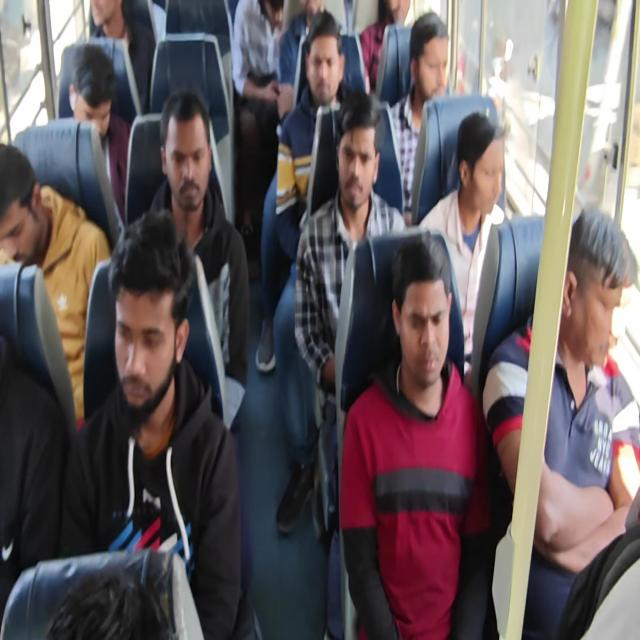person: (1, 1, 638, 638), (59, 208, 257, 638), (482, 202, 639, 638), (339, 236, 491, 638), (293, 90, 407, 534), (147, 89, 250, 432), (255, 10, 352, 372), (0, 142, 111, 428), (418, 110, 507, 385), (230, 0, 287, 239), (387, 11, 450, 224), (67, 43, 132, 226), (45, 566, 172, 639), (87, 0, 155, 121), (278, 0, 325, 115), (359, 0, 411, 94)
